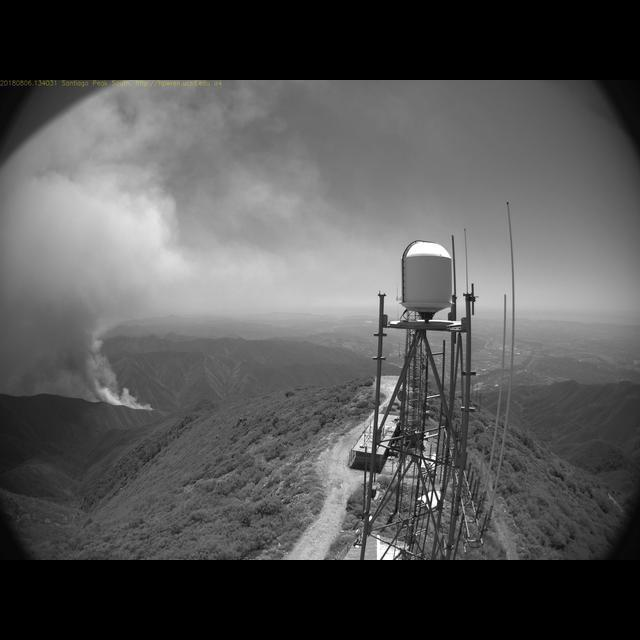Smoke: (0, 165, 161, 414)
